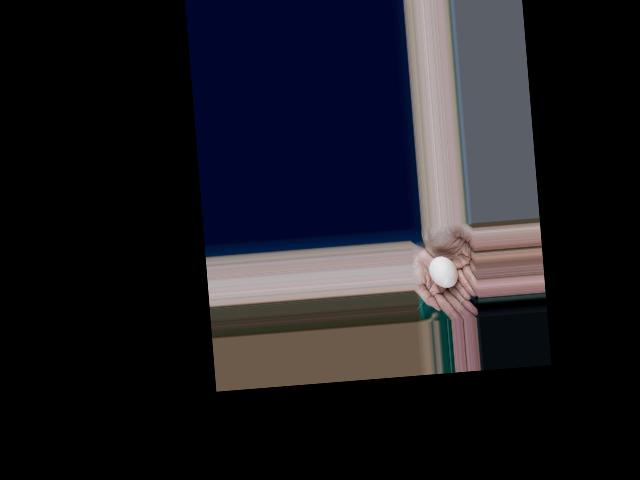egg: (428, 255, 458, 289)
